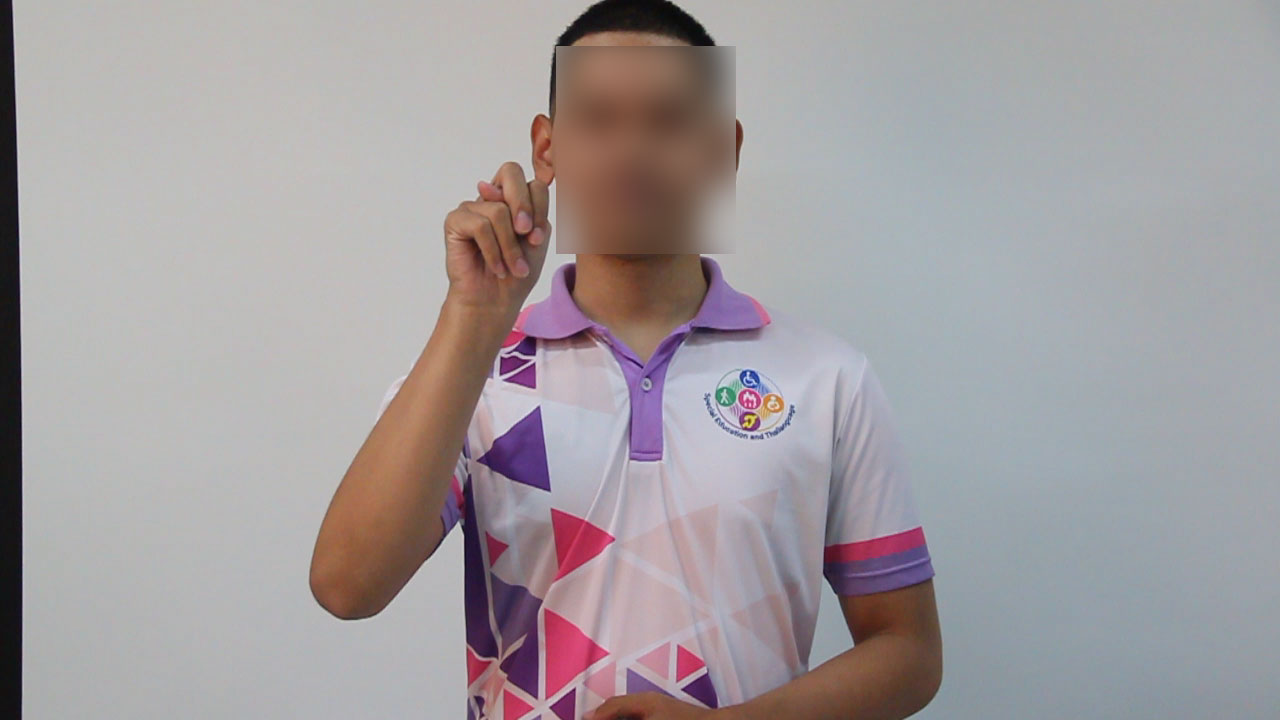nor: (428, 155, 561, 303)
